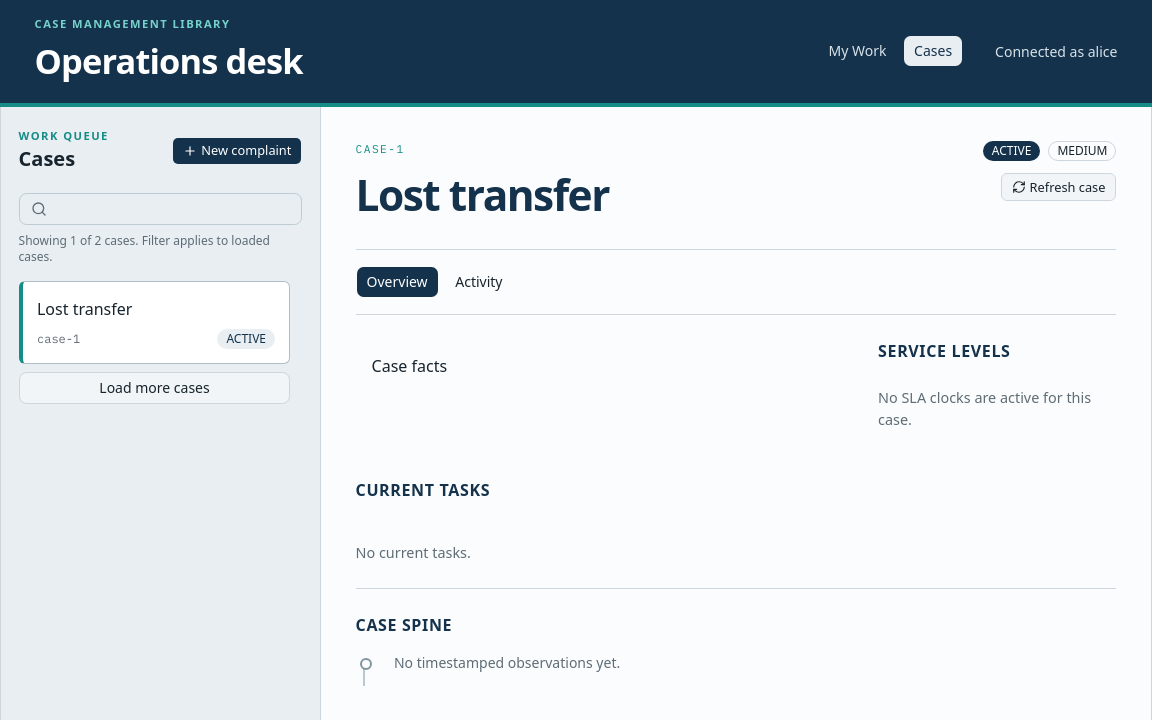
Test: case demo › reports a failed page load and keeps the paging control retryable
Click the button "Load more cases" at (154, 388), box [19, 372, 290, 404]
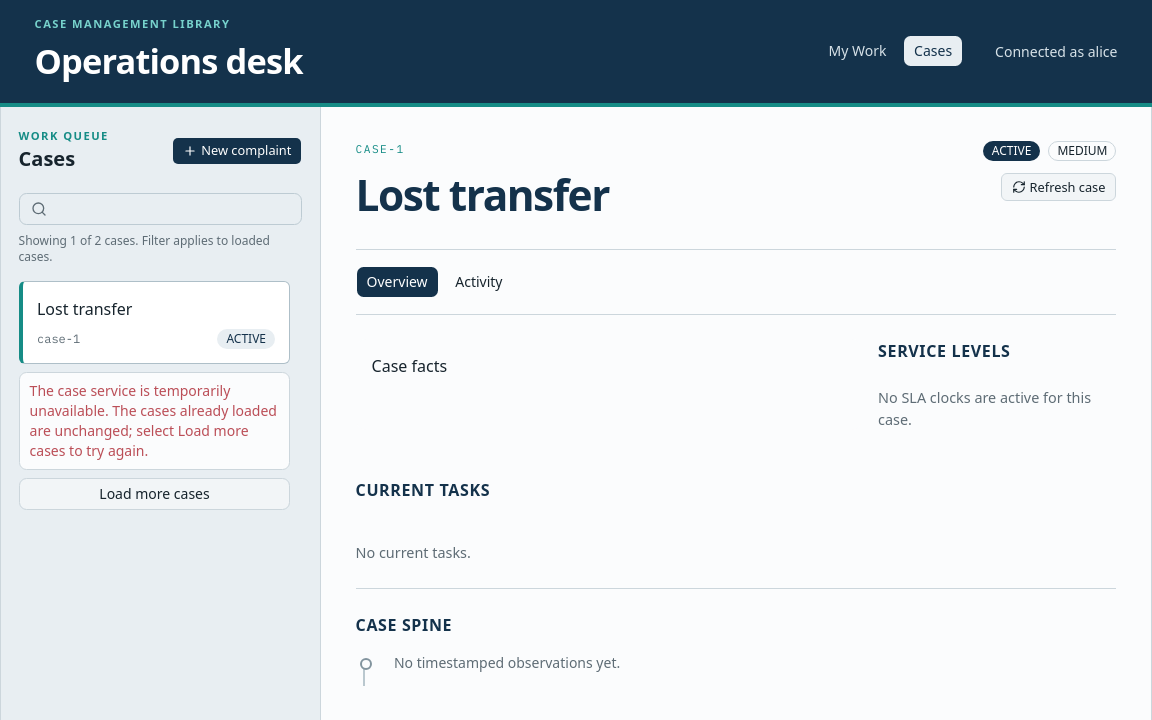
Expected: the text "Lost transfer" is shown, [37, 298, 132, 320]
Now the message shows "The case service is temporarily unavailable.", box [30, 381, 230, 420]
Click the button "Load more cases" at (154, 494), box [19, 478, 290, 510]
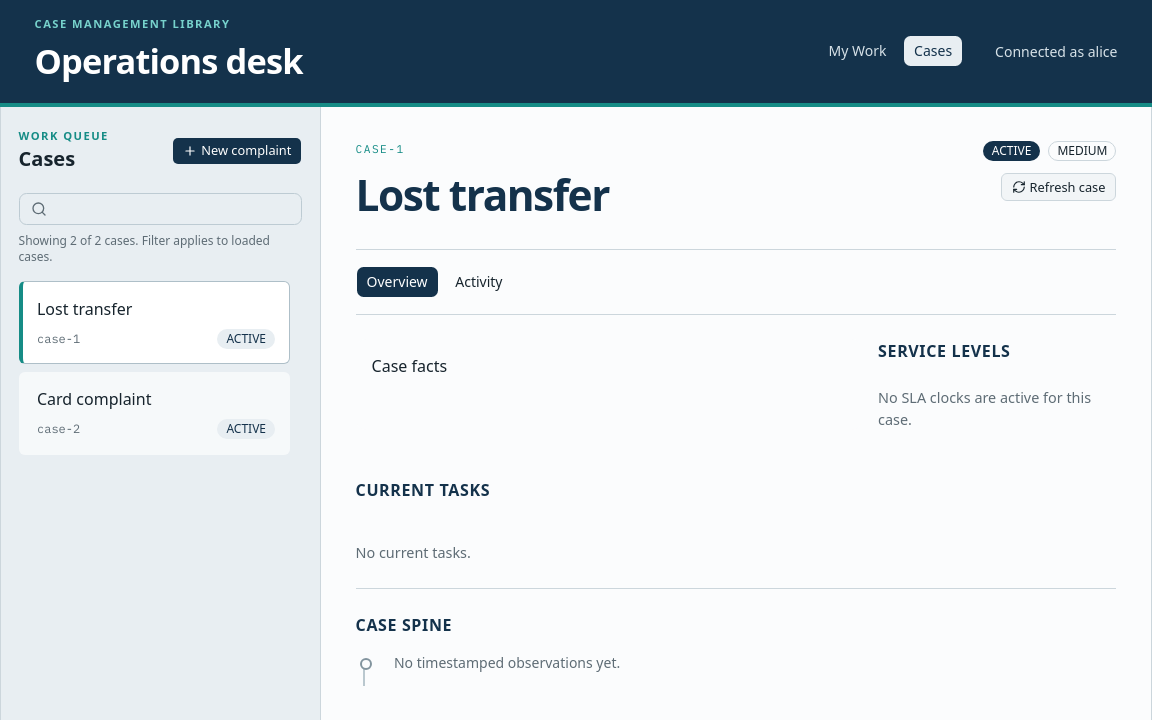
Now the text "Card complaint" is shown, box [37, 388, 151, 410]
Now the message is gone
